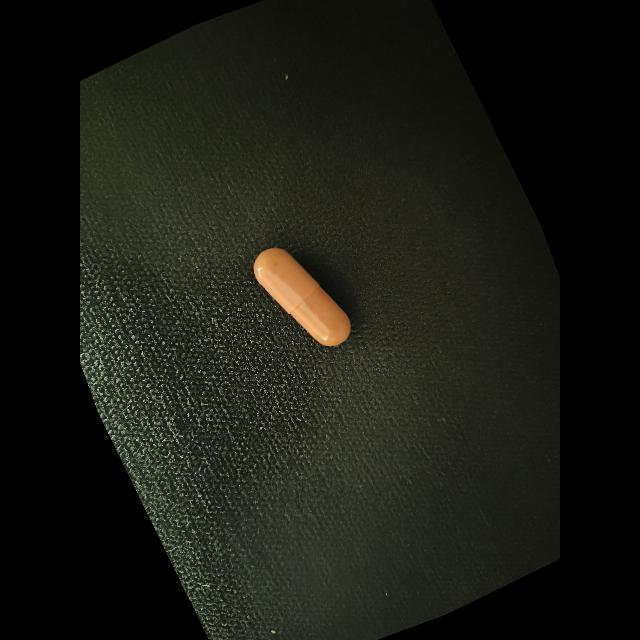Intact Capsule: (254, 248, 350, 346)
